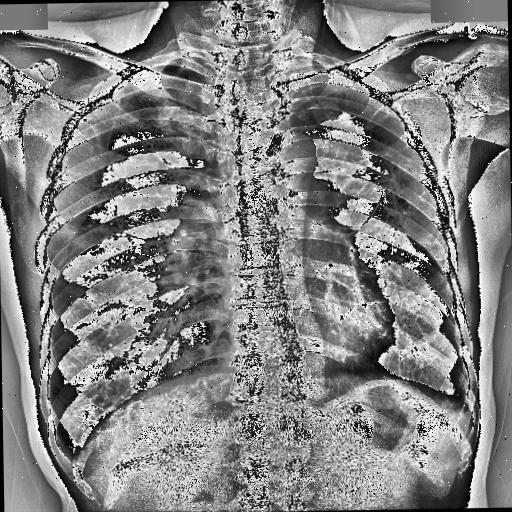0- Aortic enlargement: (256, 129, 318, 188)
10- Pleural effusion: (443, 388, 476, 420), (439, 390, 470, 416)
11- Pleural thickening: (442, 386, 478, 442), (443, 388, 476, 420), (439, 390, 470, 416)
13- Pulmonary fibrosis: (351, 162, 415, 274), (352, 162, 422, 262), (350, 171, 405, 240), (100, 88, 166, 132)
7- Lung Opacity: (100, 88, 166, 132)
8- Nodule-Mass: (102, 356, 142, 380)
